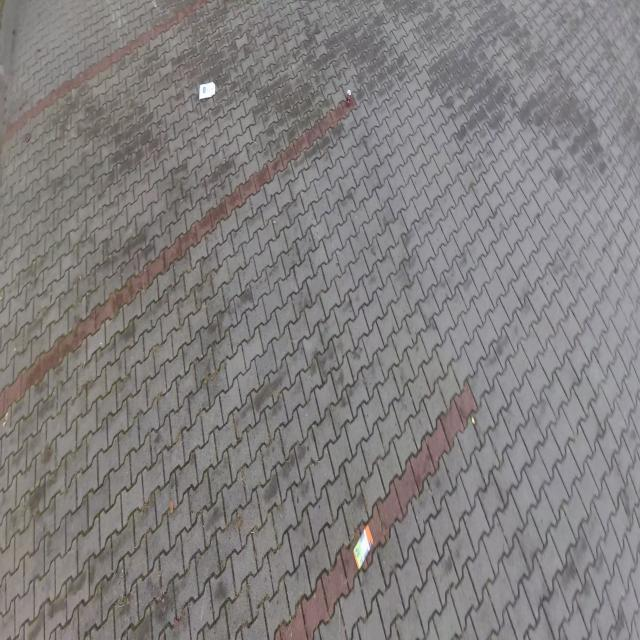rubbish: (351, 523, 374, 571), (198, 81, 215, 101), (346, 90, 351, 107), (471, 416, 474, 423)
